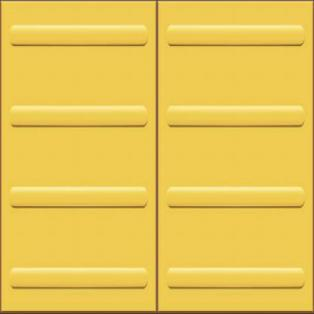Podoctatil: (1, 3, 311, 309)
